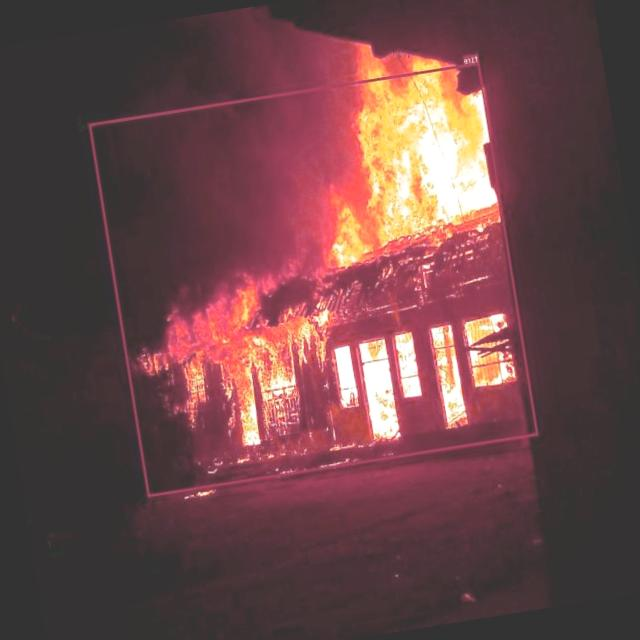fire: (90, 61, 538, 496)
